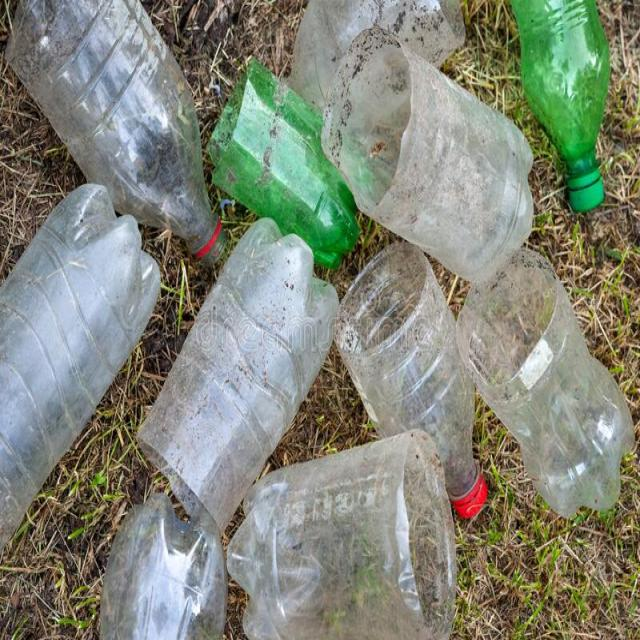plastic: (298, 0, 607, 281), (339, 242, 632, 519), (140, 216, 339, 522), (0, 183, 159, 551), (8, 0, 225, 264), (230, 430, 456, 640), (210, 56, 364, 257), (96, 495, 229, 640)
